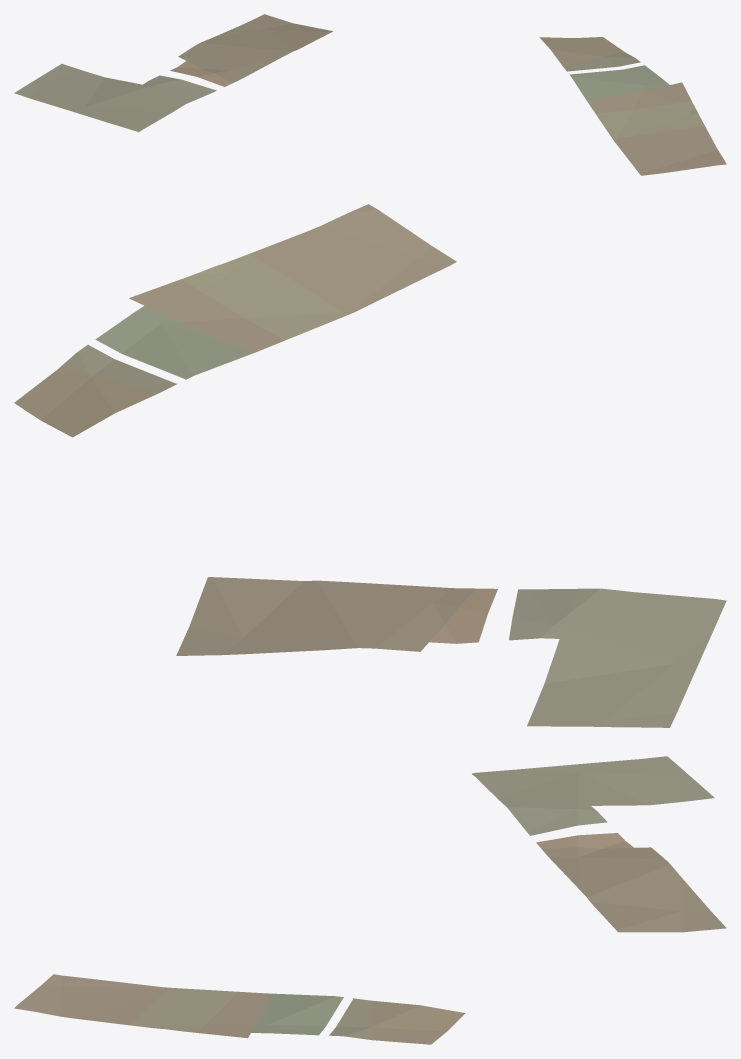
Rendered from farm_-13_-19_soil.glb.
3 renders of one model, top to bottom at view 1: azimuth 30°, elevation 25°; view 2: azimuth 150°, elevation 25°; view 3: azimuth 270°, elevation 25°, orthographic. The views are drawn at different scales.
Parts seen in each view (by area): view 1: geometry_0; view 2: geometry_0; view 3: geometry_0.
Part boxes in pixels (x1,y1,x2,y2): geometry_0: (14,14,726,175); geometry_0: (14,204,726,727); geometry_0: (14,756,726,1044).
Bounding box in the file's own units: 548 × 20.69 × 552.
